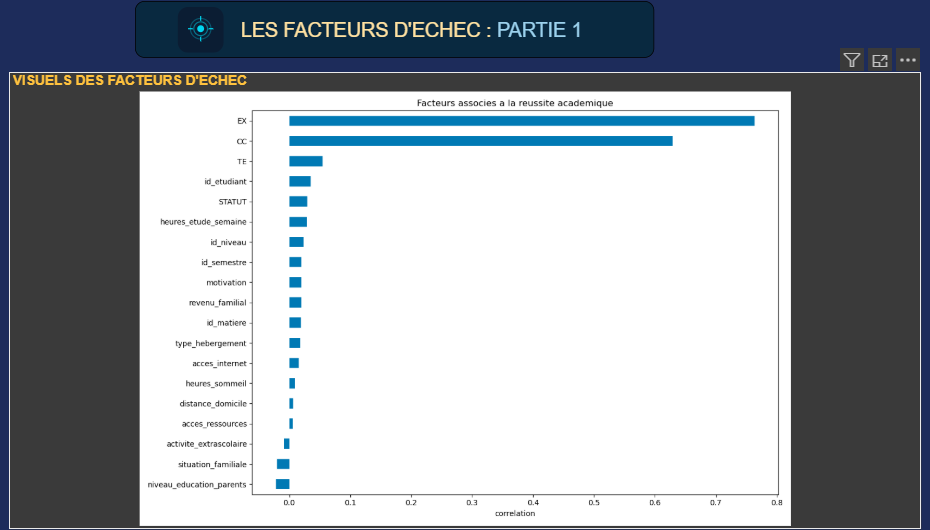

The dashboard page shown, as its layout file describes it:
{"tool":"powerbi","page":{"name":"Page 3","canvas":[1280,743],"ordinal":2},"visuals":[{"type":"textbox","box":[189.8,9.5,703.7,77.3],"z":0},{"type":"image","box":[231.8,17.6,93.6,62.4],"z":1000},{"type":"pythonVisual","title":"VISUELS DES FACTEURS D''ECHEC","fields":{"Values":["DIM_ETUDIANT.acces_internet","DIM_ETUDIANT.acces_ressources","DIM_ETUDIANT.activite_extrascolaire","DIM_ETUDIANT.distance_domicile","DIM_ETUDIANT.heures_etude_semaine","DIM_ETUDIANT.heures_sommeil","DIM_ETUDIANT.id_etudiant","DIM_ETUDIANT.motivation","DIM_ETUDIANT.niveau_education_parents","DIM_ETUDIANT.revenu_familial","DIM_ETUDIANT.situation_familiale","DIM_ETUDIANT.STATUT"]},"box":[18.8,105.5,1237.4,620.1],"z":2000}]}

Visuals, with their boxes on the page's 1280x743 design canvas (x1, y1, x2, y2). These are canvas units, not pixel positions in the 930x530 screenshot, which may show the page scaled, cropped or inside an application window:
textbox: [190,10,894,87]
image: [232,18,325,80]
"VISUELS DES FACTEURS D''ECHEC" pythonVisual: [19,106,1256,726]
